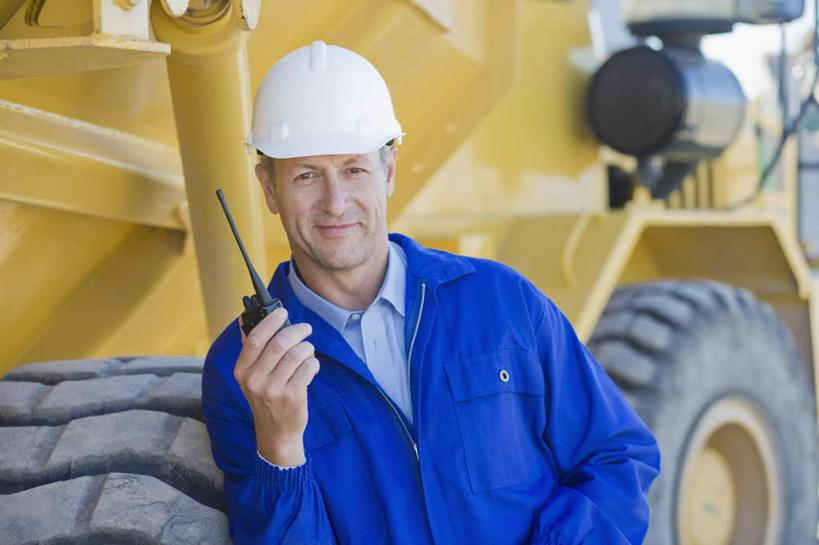helmet: (245, 40, 408, 162)
